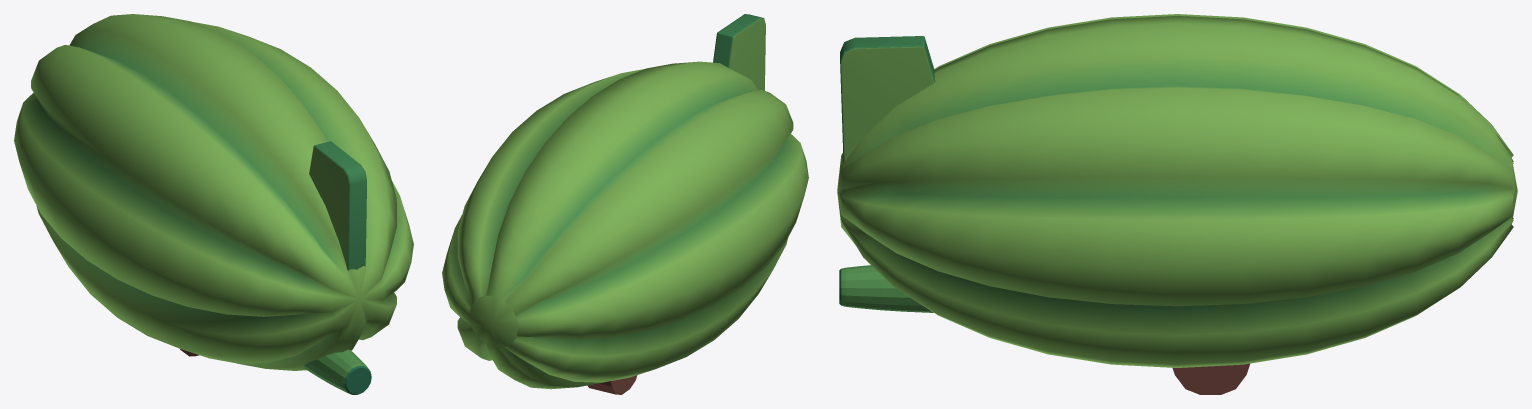
File: Airship-1.fbx
The picture shows the model from 3 angles, left to right: view 1: azimuth 30°, elevation 25°; view 2: azimuth 150°, elevation 25°; view 3: azimuth 270°, elevation 25°; orthographic projection. The views are drawn at different scales.
Parts seen in each view (by area): view 1: AirShip-1; view 2: AirShip-1; view 3: AirShip-1.
Boxes of the visible parts, <box> form: AirShip-1: <box>14,14,413,394</box>; AirShip-1: <box>442,14,808,394</box>; AirShip-1: <box>837,14,1517,394</box>.
Size of the model in its own units: 1357 by 1471 by 2501.
